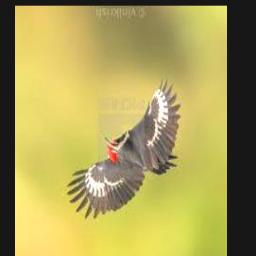Woodpecker: (66, 79, 181, 219)
